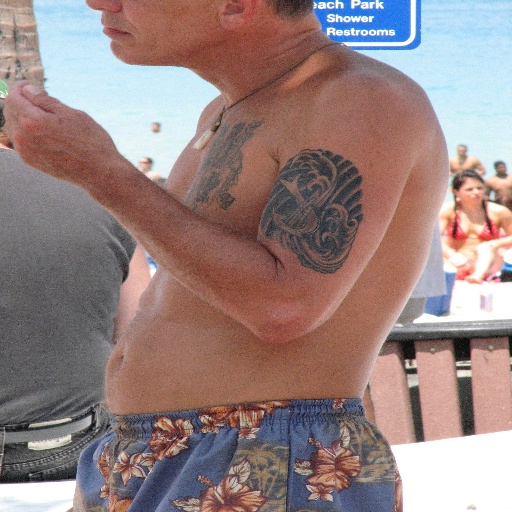hand: (6, 67, 139, 203), (481, 239, 500, 252), (456, 260, 470, 271), (445, 170, 455, 177)
